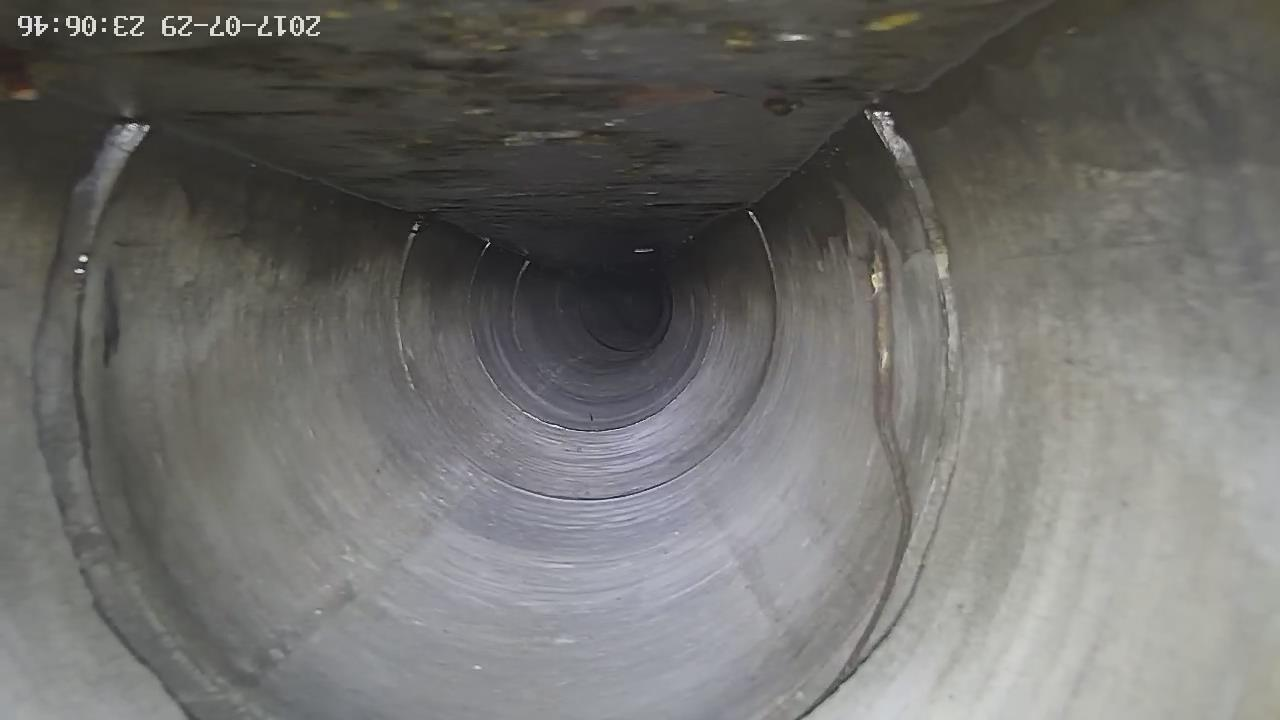CKTJ: (34, 122, 266, 720), (800, 110, 964, 720)
JKCL: (813, 234, 914, 709)
